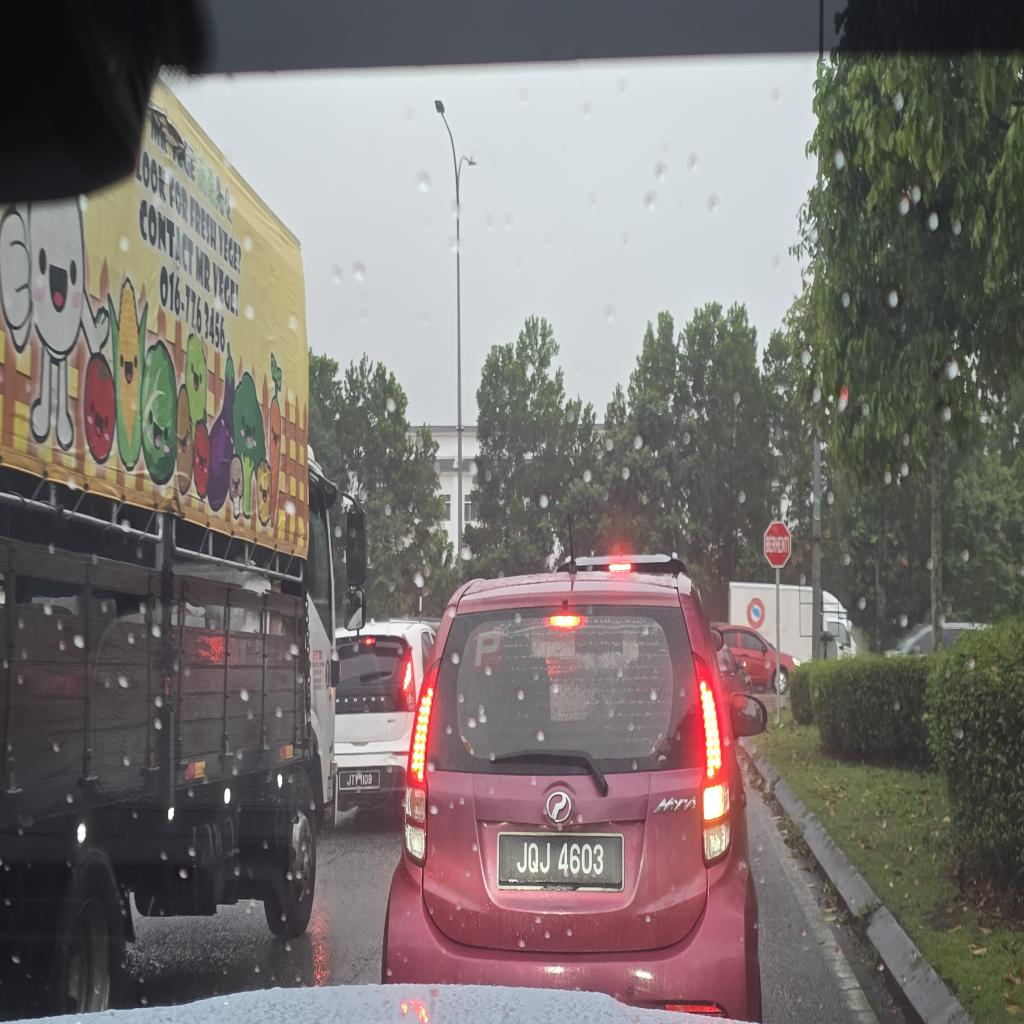car: (382, 557, 766, 1019), (334, 620, 435, 819)
car plate: (499, 832, 623, 891), (339, 770, 380, 790)
